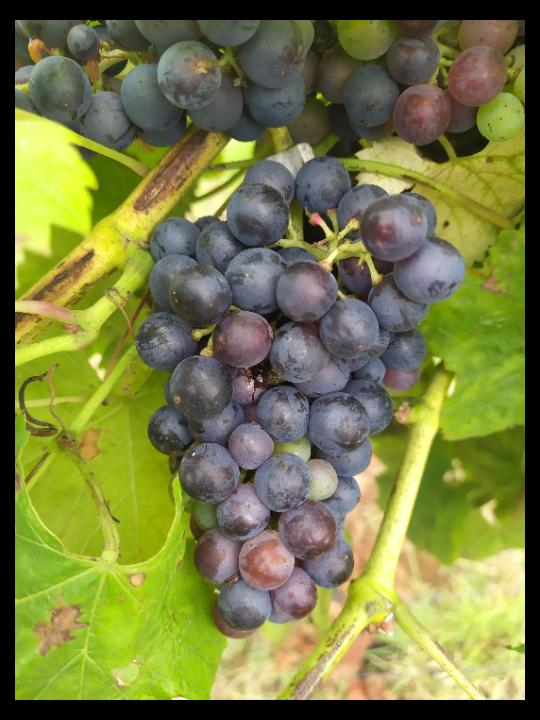grape: (128, 153, 475, 643)
